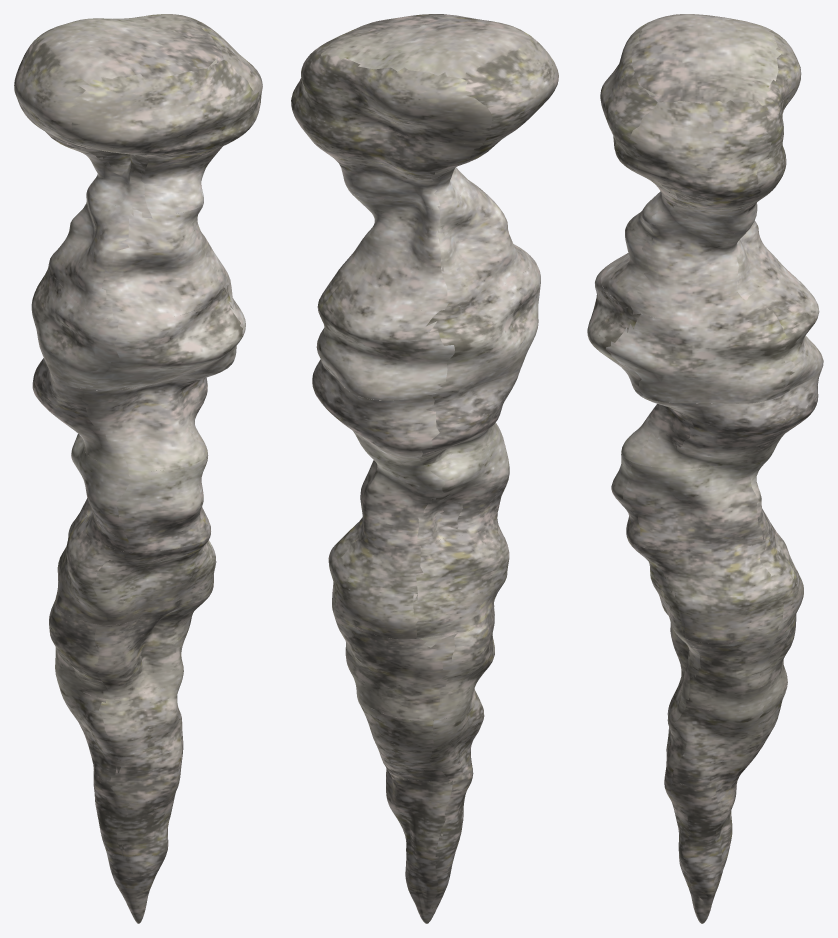
Rendered from Stag3.fbx.
3 renders of one model, left to right at view 1: azimuth 30°, elevation 25°; view 2: azimuth 150°, elevation 25°; view 3: azimuth 270°, elevation 25°, orthographic. The views are drawn at different scales.
Parts seen in each view (by area): view 1: Cube.001; view 2: Cube.001; view 3: Cube.001.
Part boxes in pixels (x1,y1,x2,y2): Cube.001: (14, 14, 262, 923); Cube.001: (291, 14, 558, 923); Cube.001: (587, 14, 823, 923).
Size of the model in its own units: 272 by 992 by 242.
1 material, 1 textured.
